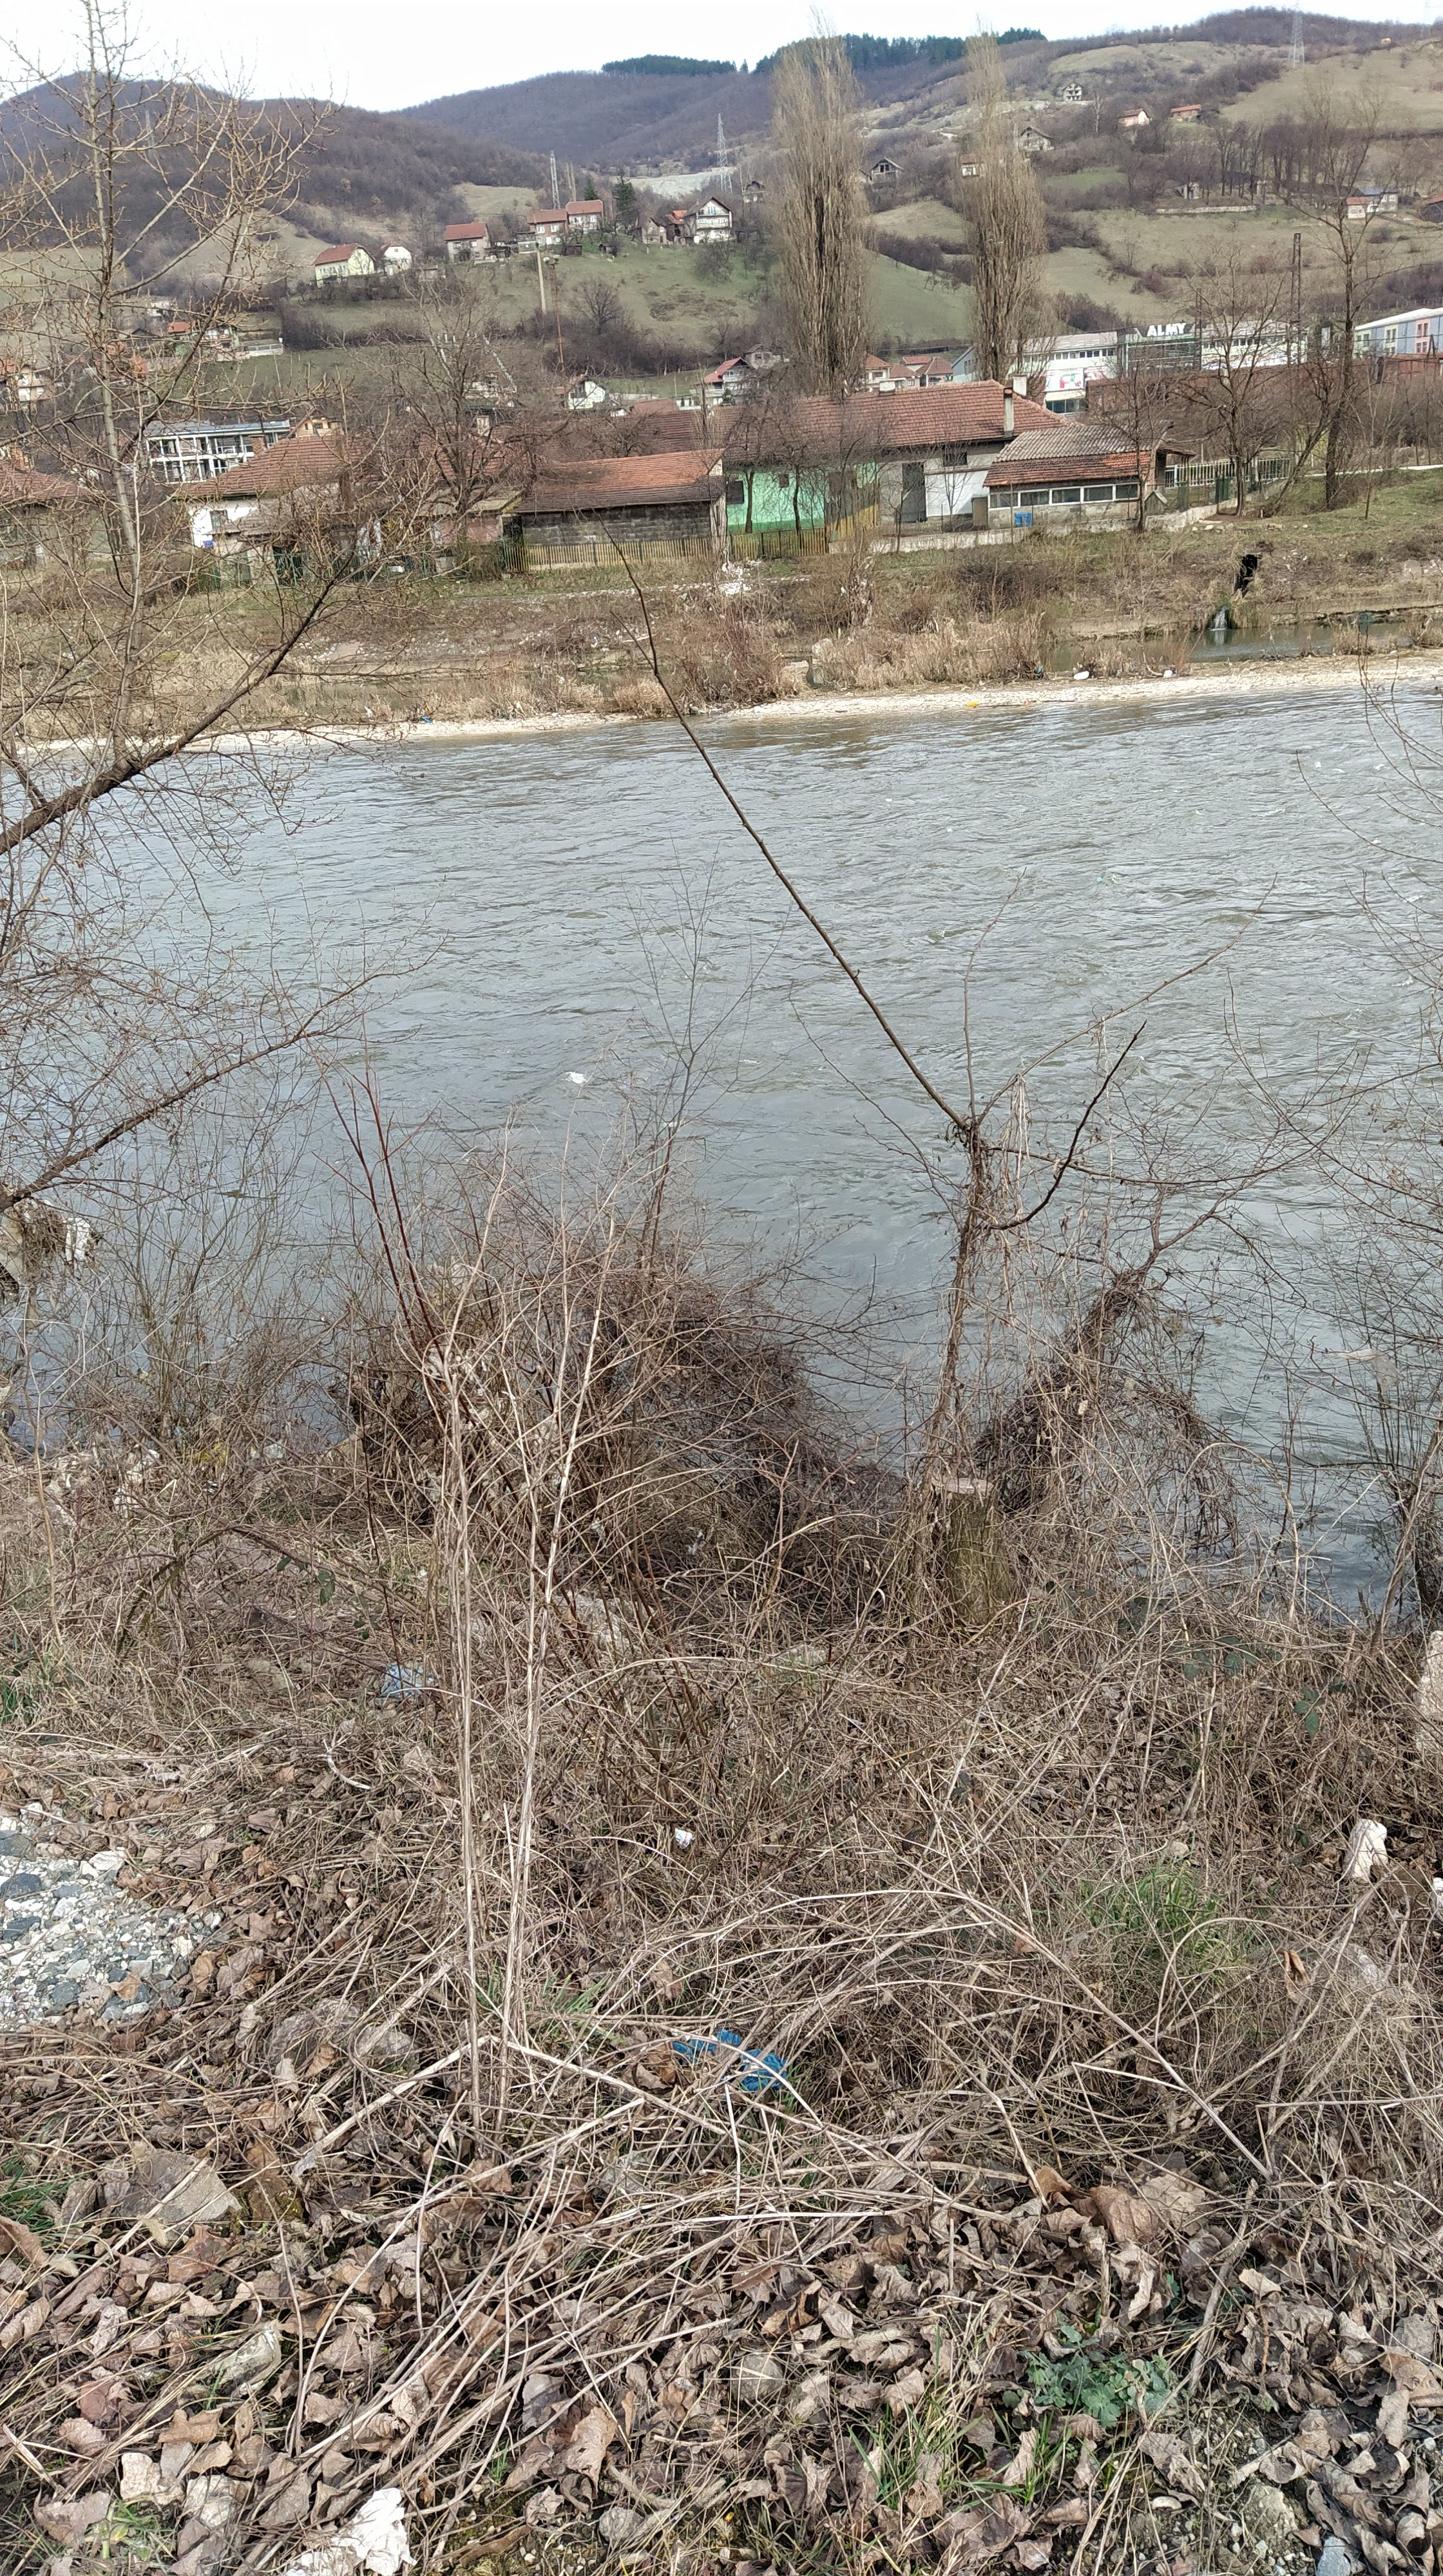Plastic Bottle: (662, 1120, 678, 1129), (965, 701, 979, 706)
